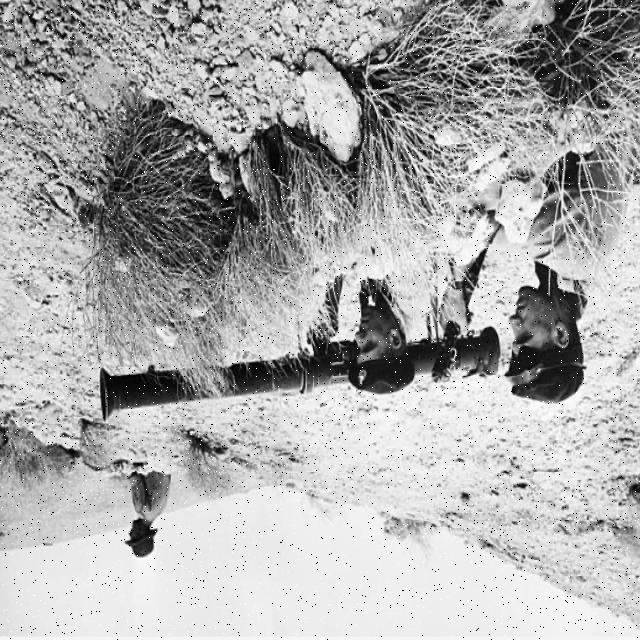bazooka: (85, 307, 511, 434)
